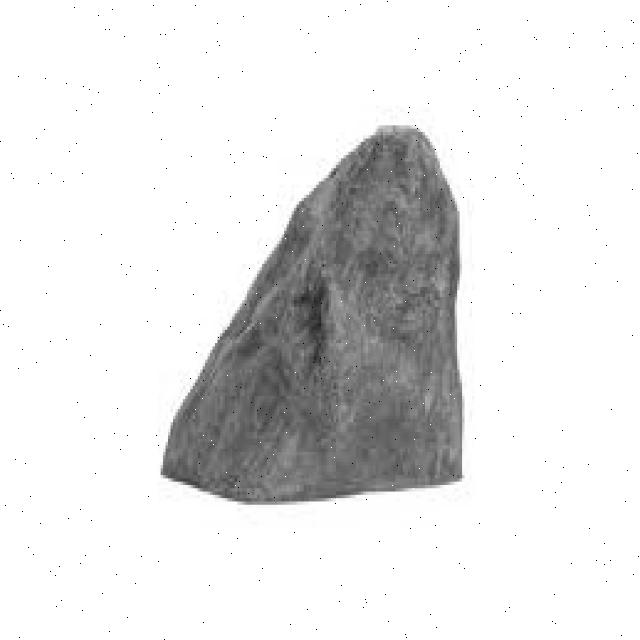Metamorphic: (158, 126, 494, 512)
